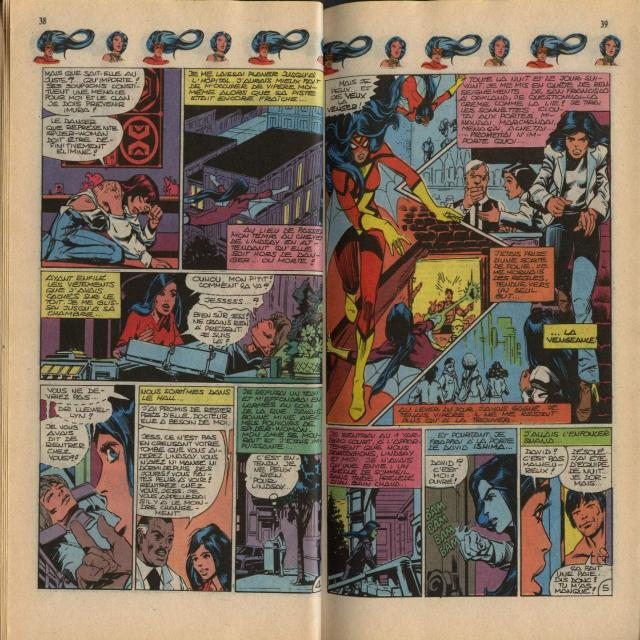comic_panel: (324, 69, 613, 426), (39, 268, 326, 387), (180, 66, 326, 274), (39, 64, 182, 270), (133, 385, 236, 595), (36, 382, 137, 592), (234, 386, 324, 594), (325, 427, 423, 599), (423, 426, 518, 598), (519, 426, 614, 598)
